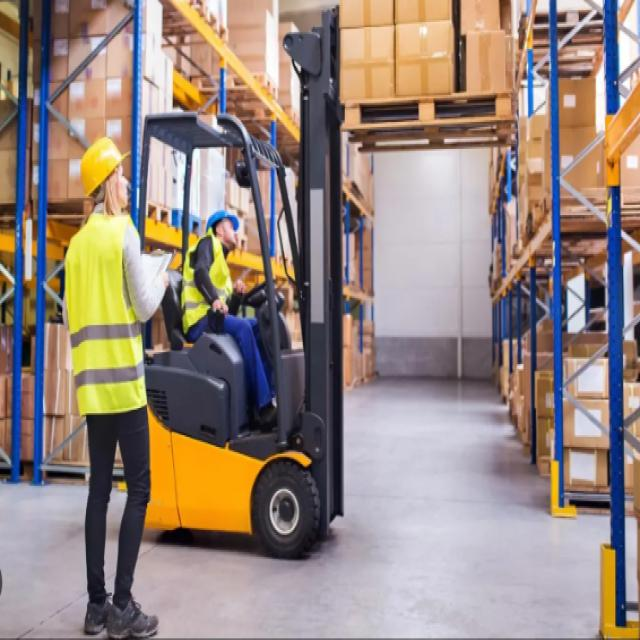boots: (82, 589, 160, 640), (253, 391, 300, 423)
helmet: (78, 137, 135, 217), (205, 208, 241, 249)
vest: (64, 213, 150, 422), (179, 230, 234, 340)
